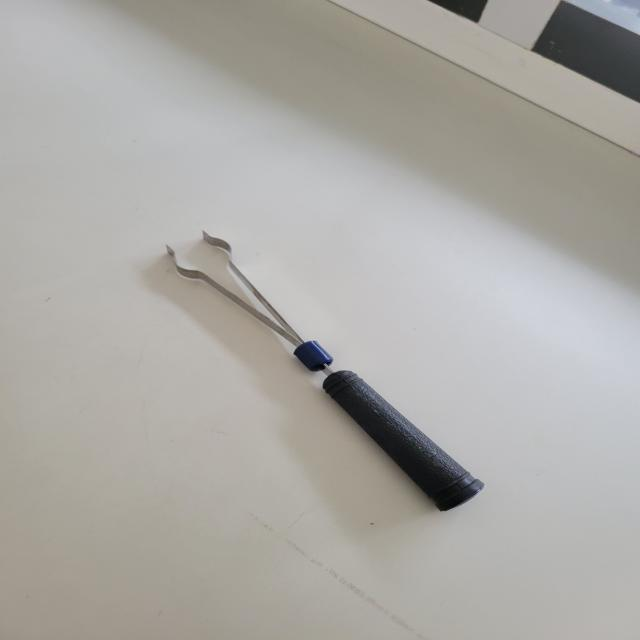TestTube_Holder: (146, 193, 538, 542)
